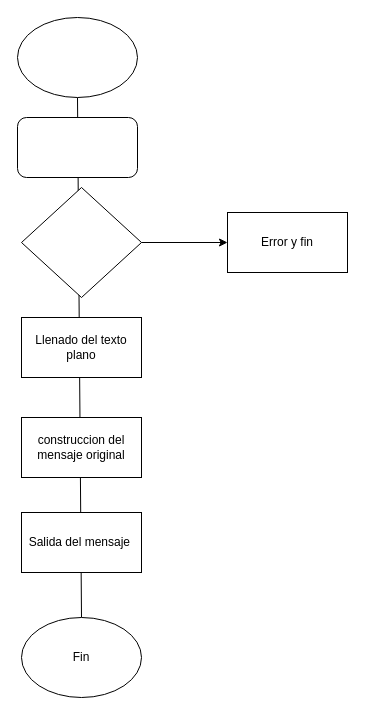
This 365x715 diagram has some shape labels left out. Each missing label, with the centre of its shape:
Calculo de filas y columnas: the point at 81,242
Inicio: the point at 77,57
Mensaje de entrada Mensaje Cifrado, clave: the point at 77,147
